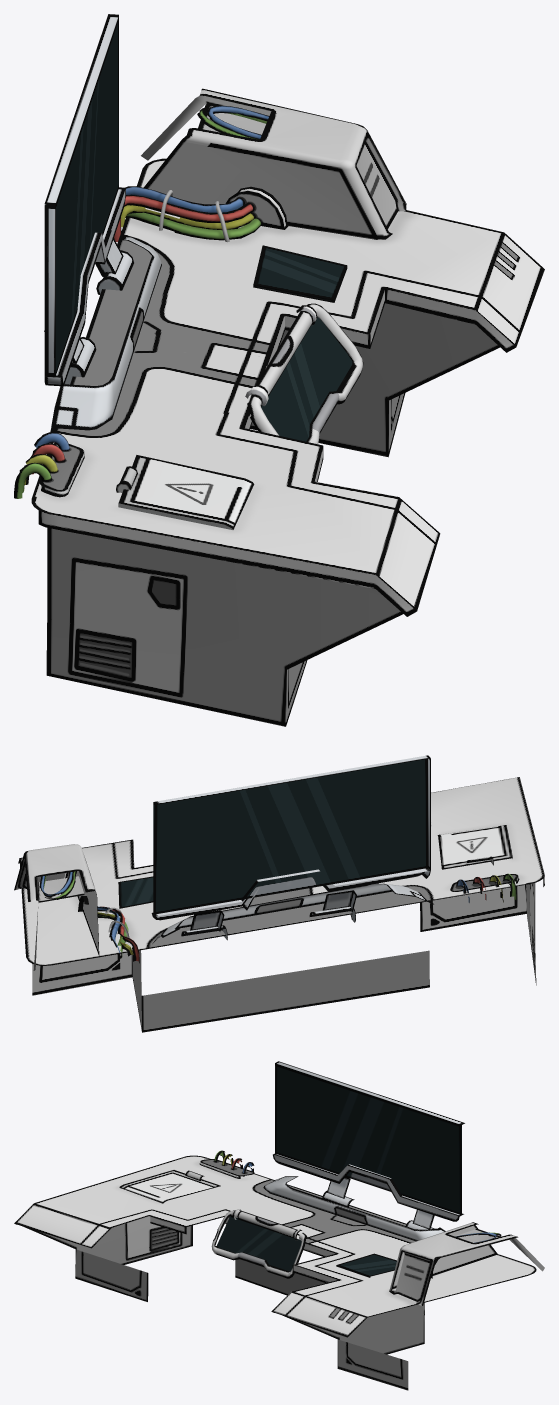
The model's file is option_base01.fbx.
3 views of the same model, one above another, from view 1: azimuth 30°, elevation 25°; view 2: azimuth 150°, elevation 25°; view 3: azimuth 270°, elevation 25° (orthographic). The views are drawn at different scales.
Parts seen in each view (by area): view 1: option_base01_low; view 2: option_base01_low; view 3: option_base01_low.
Boxes of the visible parts, <box> form: option_base01_low: <box>14,14,544,726</box>; option_base01_low: <box>14,755,544,1032</box>; option_base01_low: <box>14,1061,544,1390</box>.
Size of the model in its own units: 9.84 by 5.63 by 13.2.
